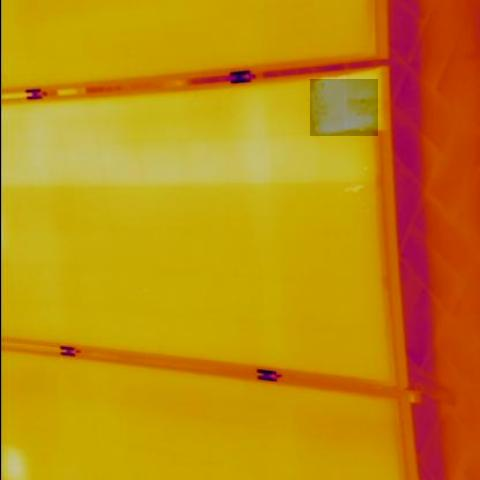fault: (310, 79, 378, 136)
